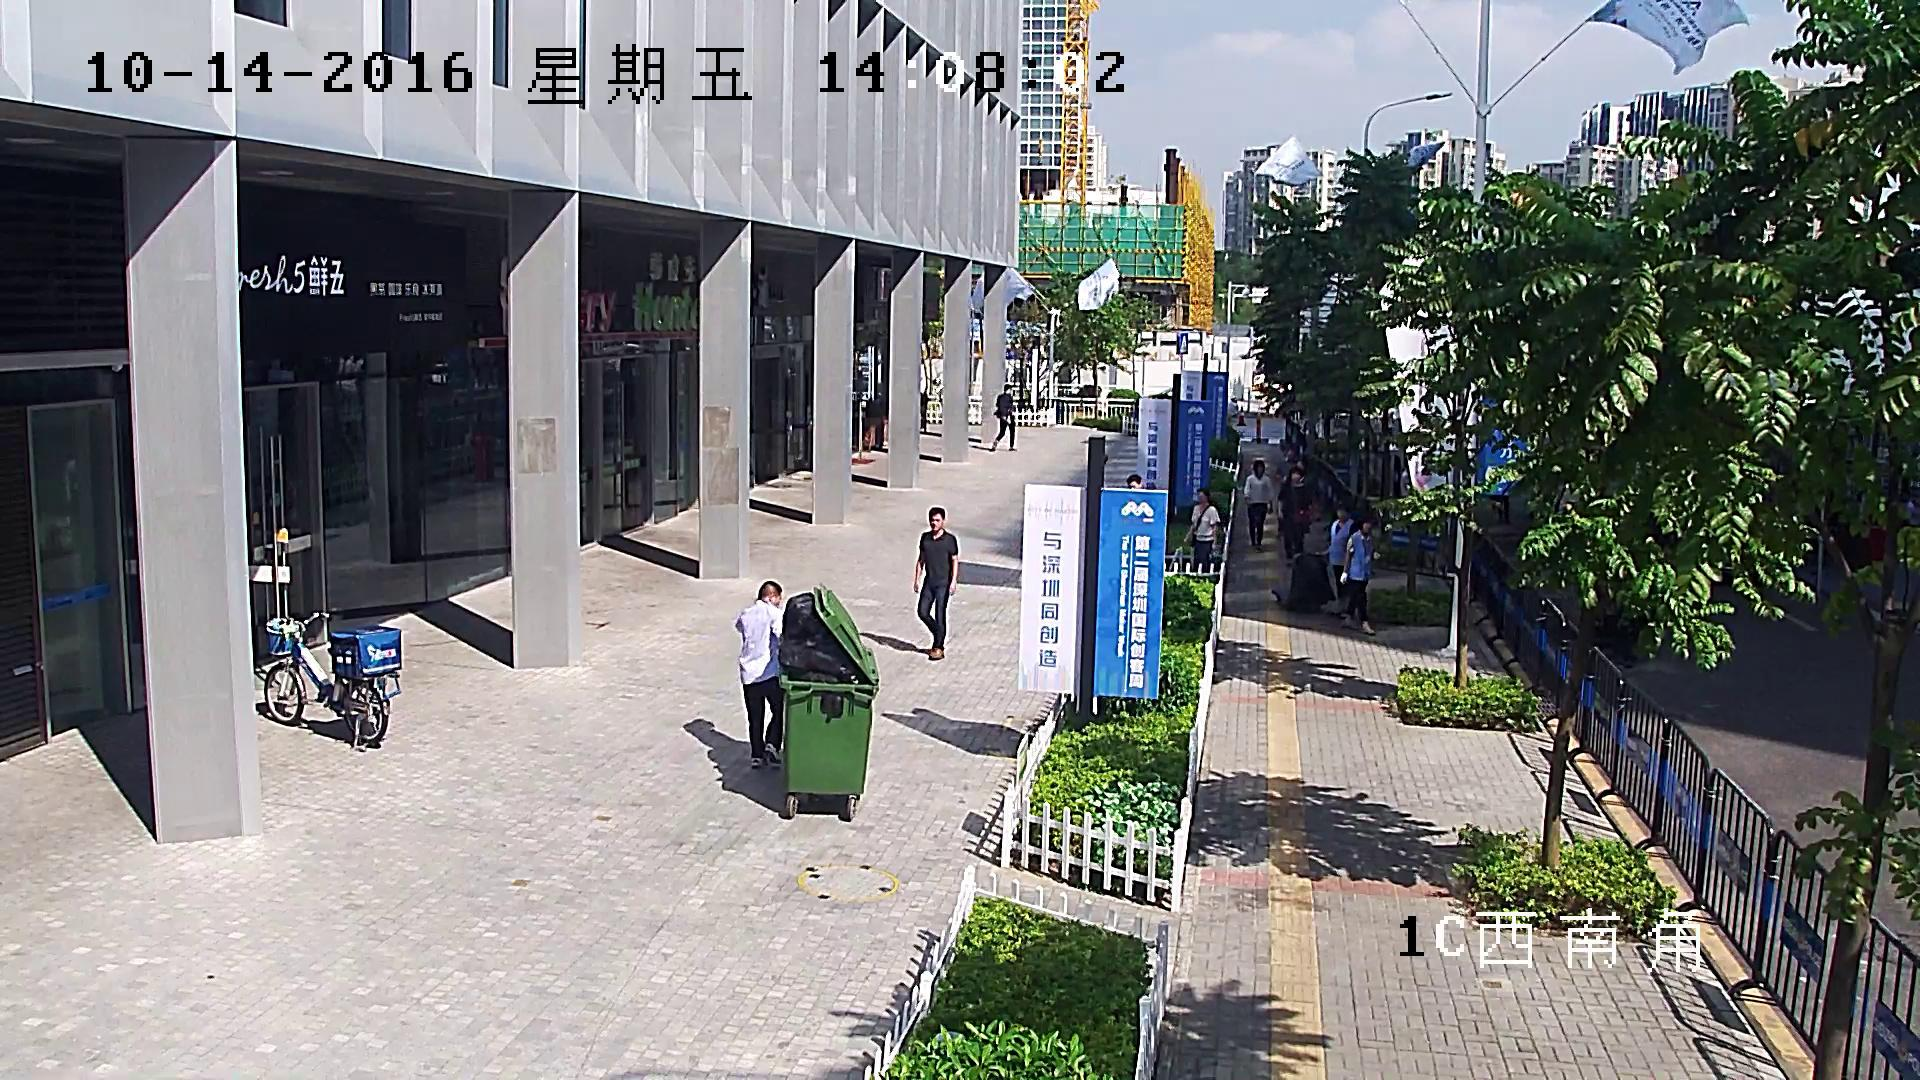person: (737, 582, 878, 820), (736, 581, 786, 768), (1272, 508, 1359, 613), (911, 506, 960, 661), (1339, 520, 1379, 635), (1316, 509, 1359, 616), (1278, 468, 1314, 563), (1244, 460, 1275, 551), (1190, 489, 1222, 570), (991, 384, 1018, 450)
